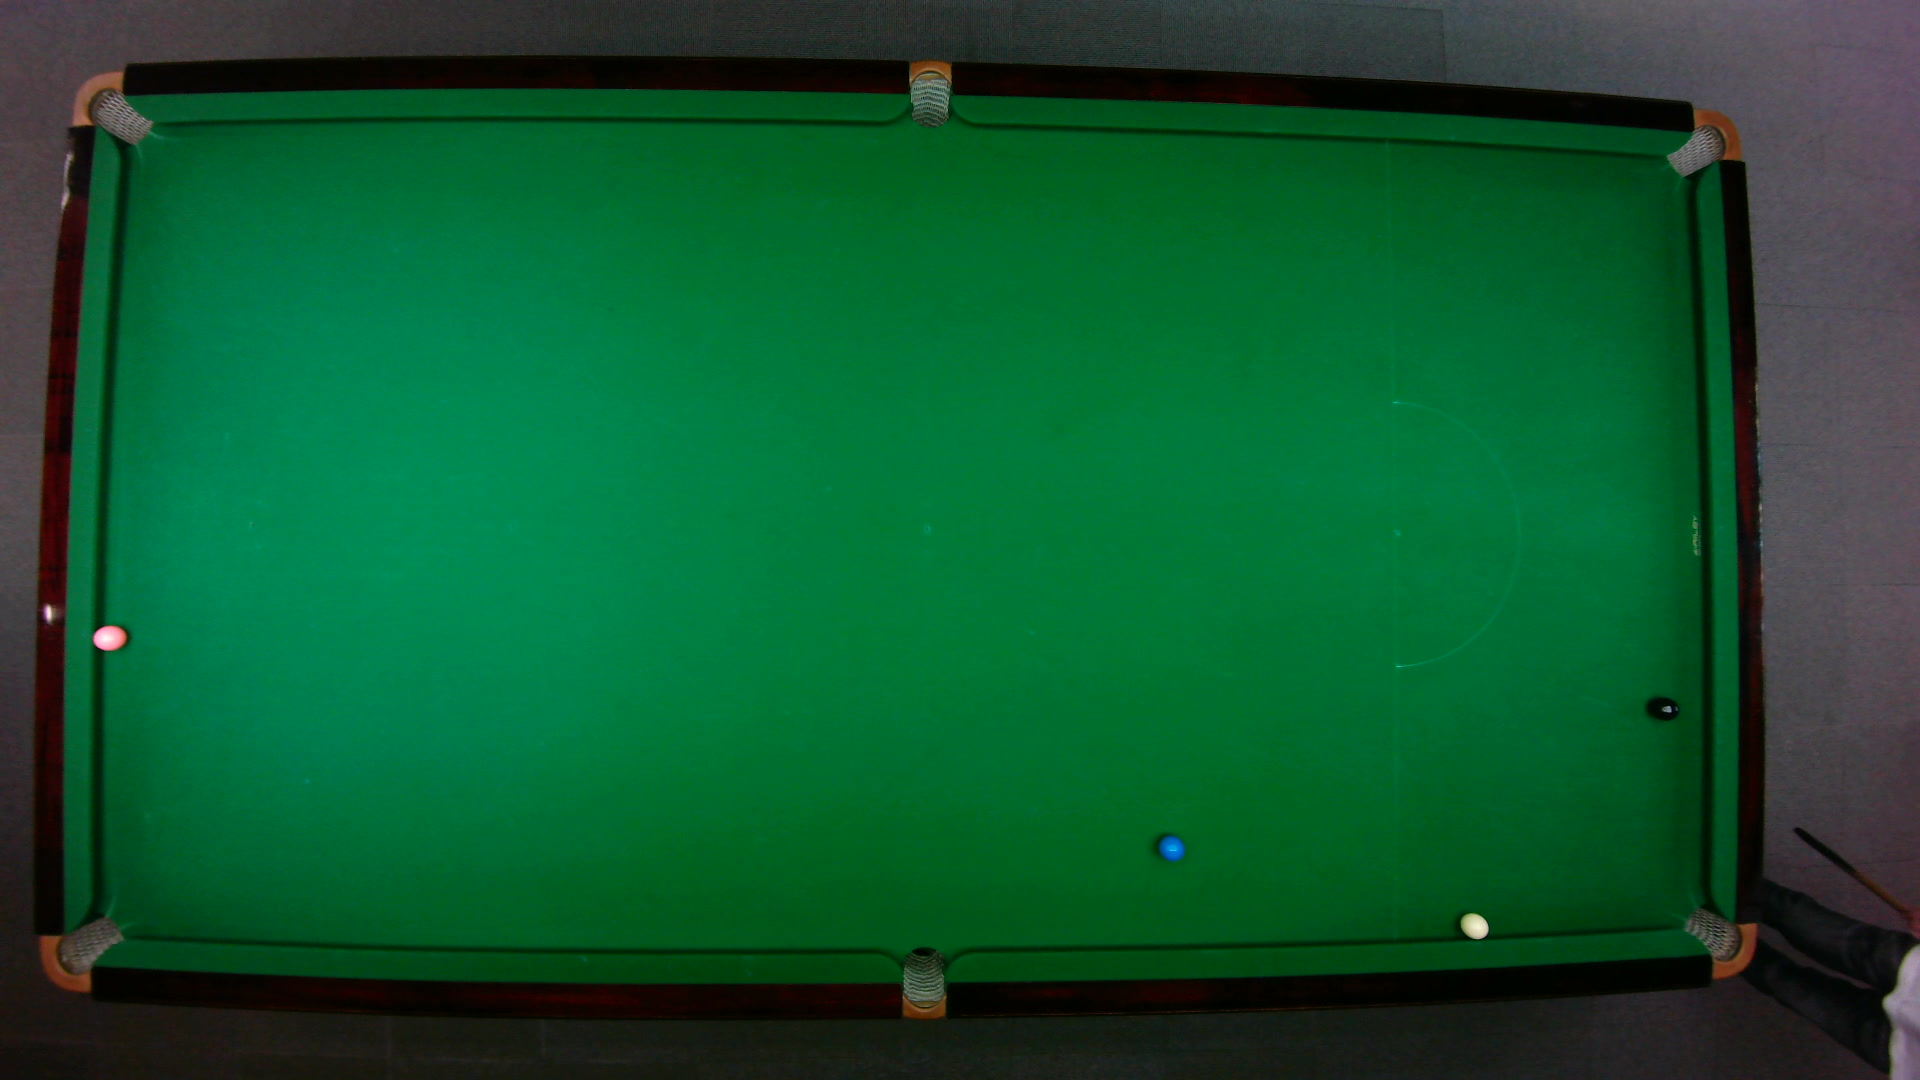bag: (37, 913, 125, 992), (69, 70, 156, 146), (1683, 905, 1759, 978), (1665, 108, 1745, 179), (901, 945, 945, 1022), (909, 59, 953, 131)
black: (1651, 695, 1681, 723)
blue: (1155, 833, 1185, 860)
pink: (90, 622, 131, 653)
white: (1457, 911, 1491, 942)
zone: (1390, 398, 1520, 669)
